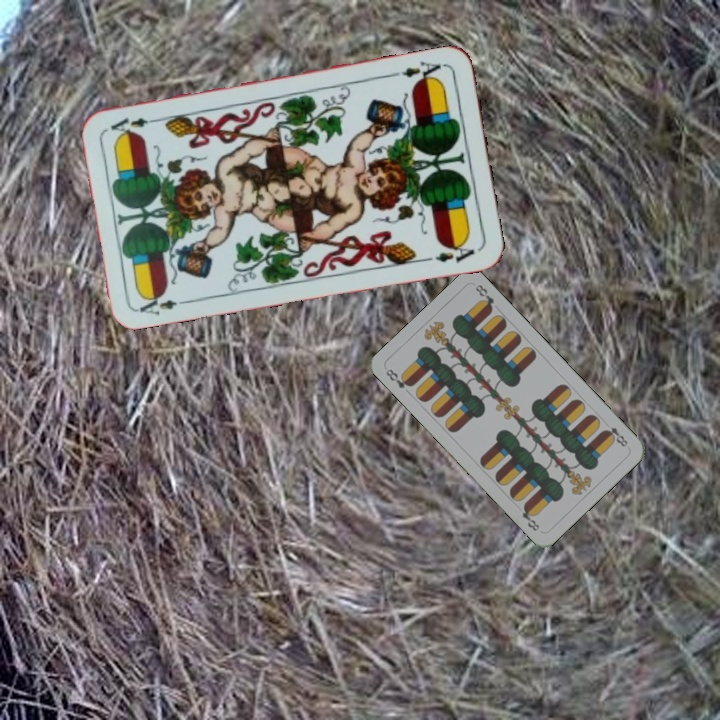E8: (600, 422, 631, 450), (382, 365, 415, 391)
EA: (389, 57, 448, 86), (135, 289, 193, 318)
